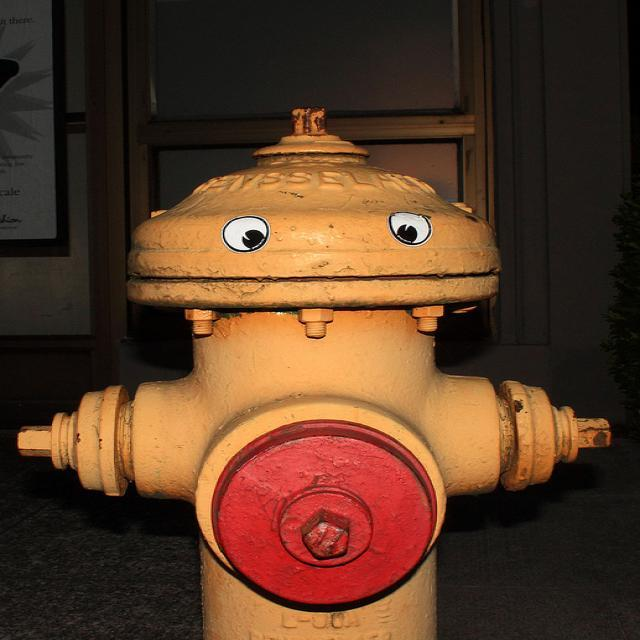fire_hydrant: (14, 107, 618, 640)
